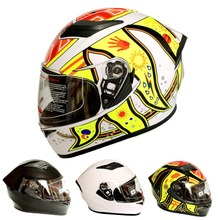helmet: (41, 9, 179, 142), (73, 159, 147, 215), (152, 162, 212, 218), (11, 159, 66, 215)
